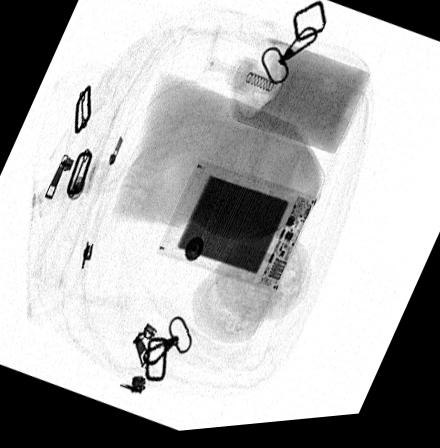Powerbank: (155, 162, 316, 300)
